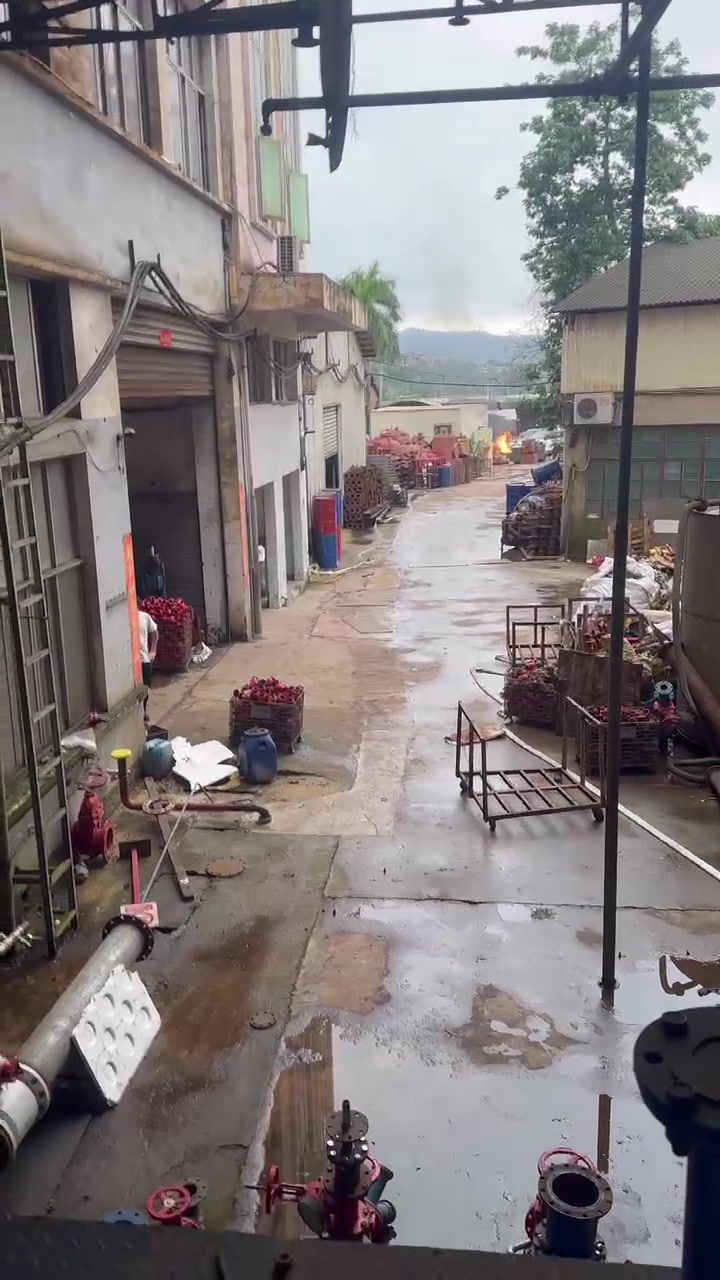fire: (496, 430, 510, 453)
